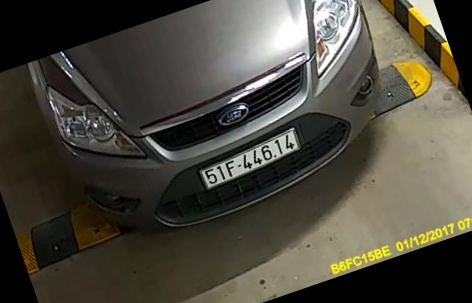plate: (194, 127, 314, 199)
